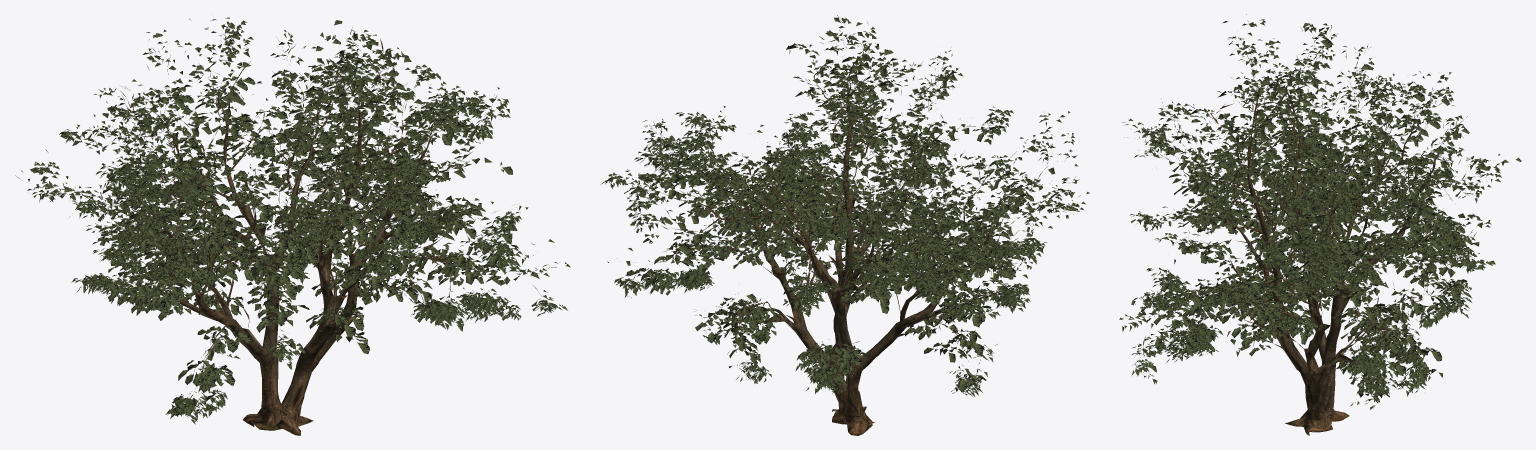
Rendered from jacaranda.glb.
3 views of the same model, side by side, from view 1: azimuth 30°, elevation 25°; view 2: azimuth 150°, elevation 25°; view 3: azimuth 270°, elevation 25° (orthographic). The views are drawn at different scales.
Bounding box in the file's own units: 24.03 × 19.24 × 18.85.
Materials: 3 (3 with a texture image).
